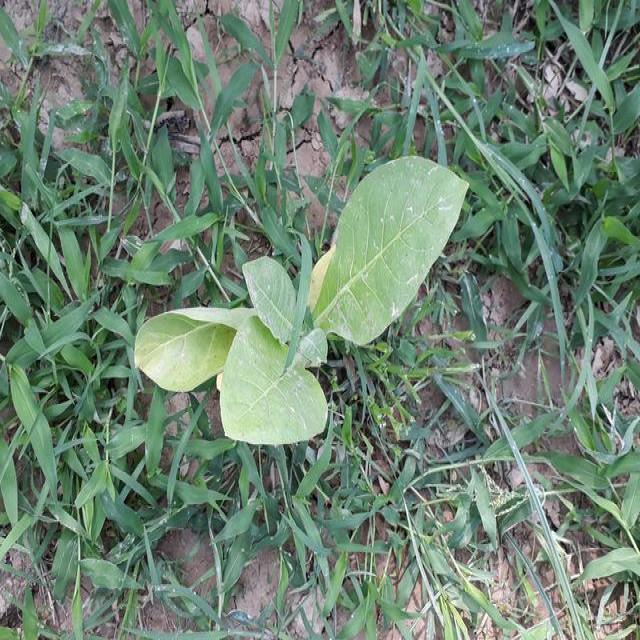crop: (119, 150, 473, 449)
